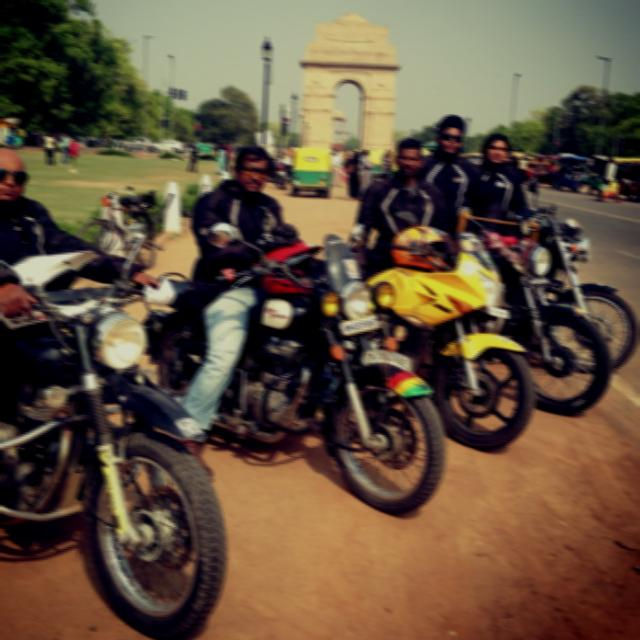Without Helmet: (224, 138, 278, 193), (0, 145, 35, 211), (434, 110, 472, 160), (393, 134, 427, 182), (482, 129, 516, 169)
